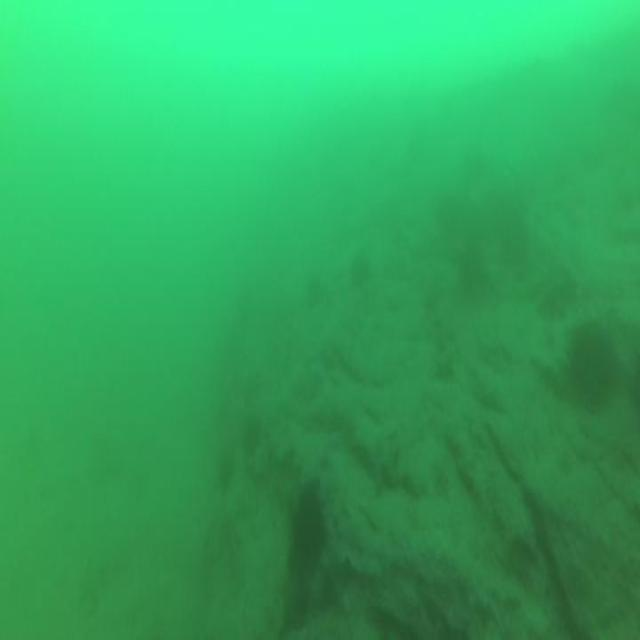echinus: (569, 319, 617, 419), (290, 481, 324, 574)
